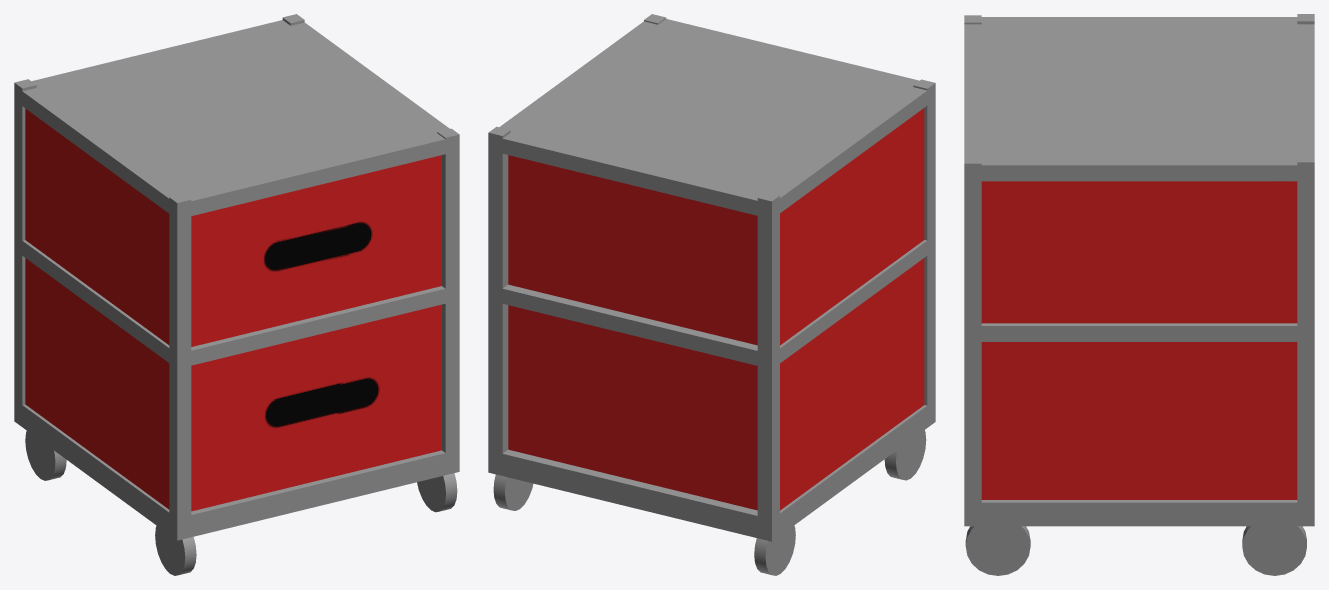
Rendered from Crash_Cart.fbx.
3 renders of one model, left to right at view 1: azimuth 30°, elevation 25°; view 2: azimuth 150°, elevation 25°; view 3: azimuth 270°, elevation 25°, orthographic. The views are drawn at different scales.
Visible parts, largest first — view 1: Short_Cart_2; view 2: Short_Cart_2; view 3: Short_Cart_2.
Part boxes in pixels (left/top/right/bottom): Short_Cart_2: left=14, top=14, right=459, bottom=575; Short_Cart_2: left=488, top=14, right=935, bottom=575; Short_Cart_2: left=964, top=14, right=1314, bottom=575.
Bounding box in the file's own units: 0.7357 × 0.9604 × 0.7357.
Materials: 1 (1 with a texture image).
